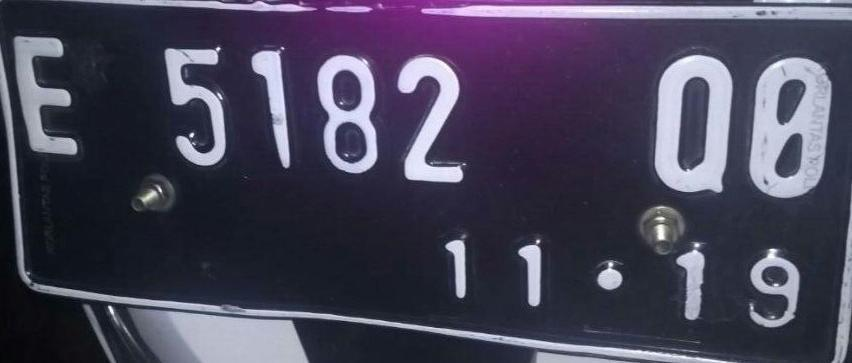1: (236, 44, 308, 174)
2: (384, 53, 480, 184)
5: (147, 42, 242, 172)
8: (303, 51, 388, 176)
E: (7, 27, 85, 162)
O: (731, 53, 833, 204)
Q: (632, 47, 732, 200)
